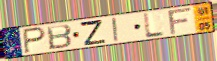B: (45, 23, 74, 51)
F: (167, 6, 194, 37)
I: (111, 16, 122, 43)
L: (143, 12, 167, 40)
P: (22, 26, 48, 55)
Z: (78, 19, 107, 47)
